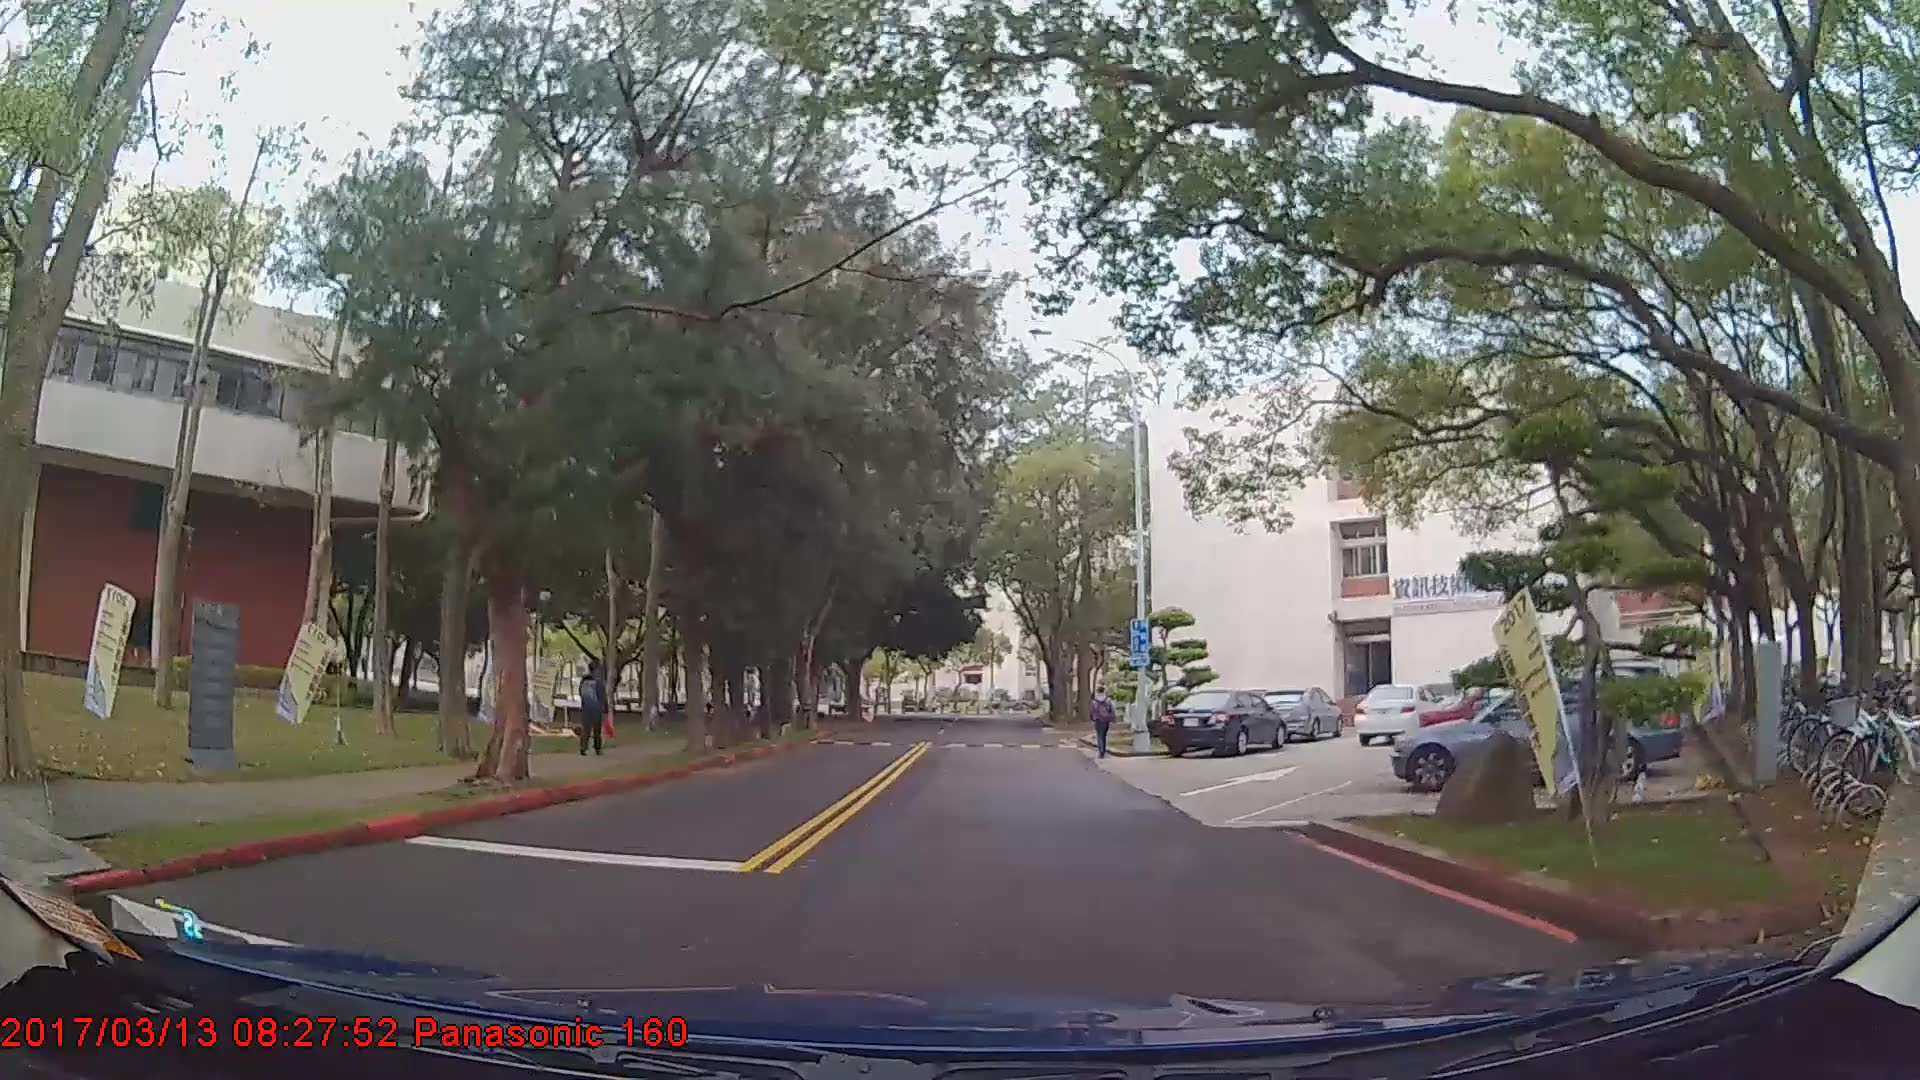pedestrian: (579, 659, 610, 755), (1090, 687, 1118, 761)
vehicle: (1389, 668, 1679, 796), (1156, 686, 1287, 756), (1352, 681, 1440, 746), (1262, 682, 1344, 739)
